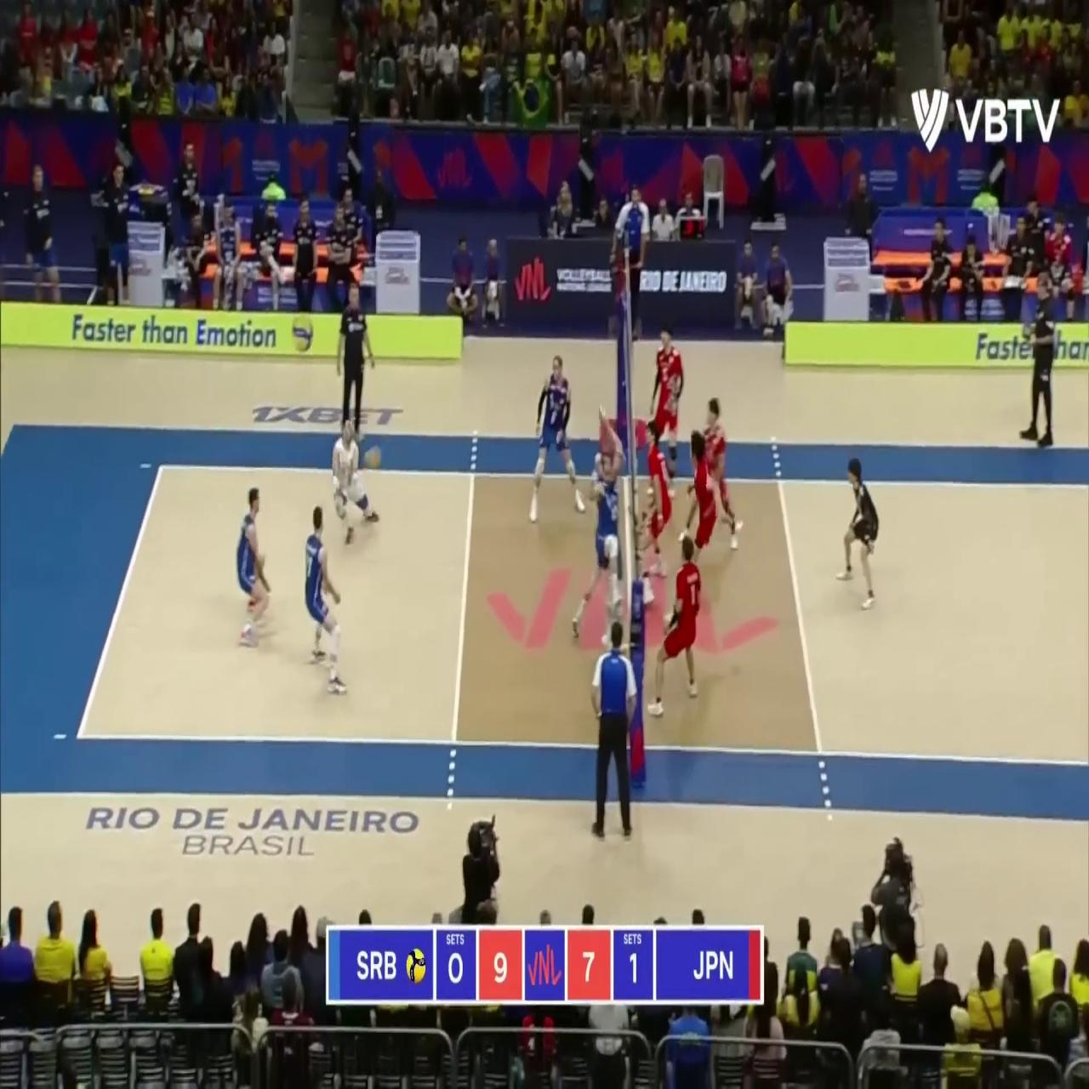ball: (365, 446, 382, 466)
